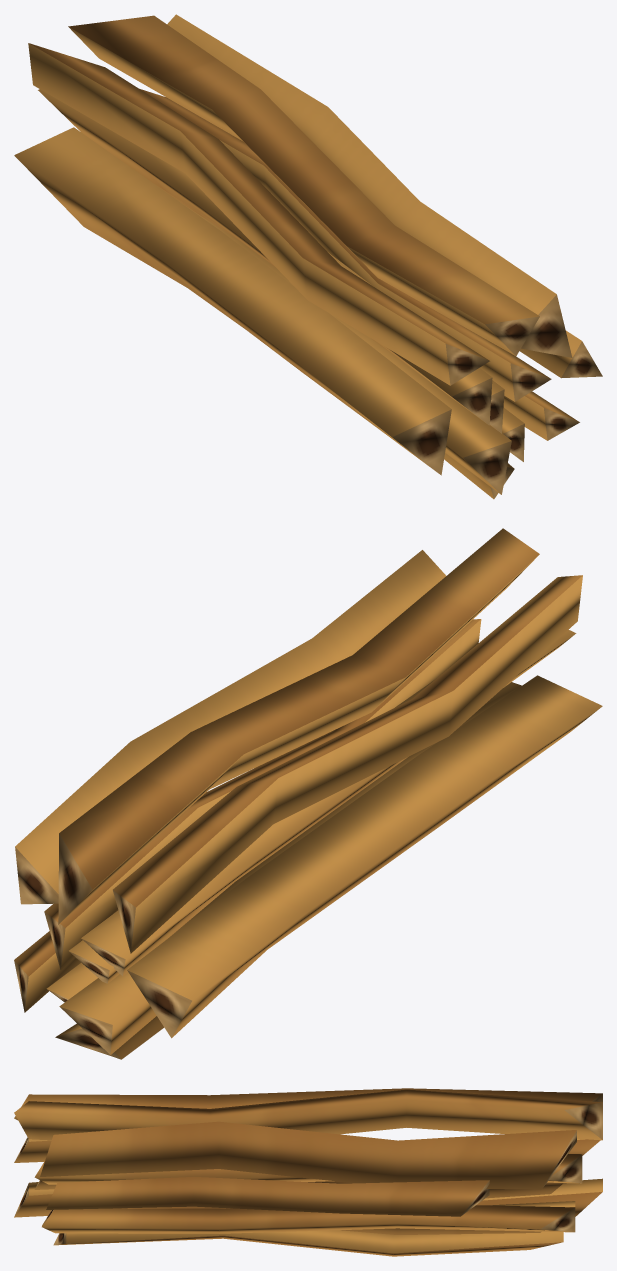
Rendered from assets_bughotel_weeds.fbx.
3 views of the same model, one above another, from view 1: azimuth 30°, elevation 25°; view 2: azimuth 150°, elevation 25°; view 3: azimuth 270°, elevation 25° (orthographic). The views are drawn at different scales.
Visible parts, largest first — view 1: assets_bughotel_weeds; view 2: assets_bughotel_weeds; view 3: assets_bughotel_weeds.
Boxes of the visible parts, <box> form: assets_bughotel_weeds: <box>14,14,602,499</box>; assets_bughotel_weeds: <box>14,528,602,1059</box>; assets_bughotel_weeds: <box>14,1088,602,1256</box>.
Bounding box in the file's own units: 0.9047 × 0.8739 × 2.87.
